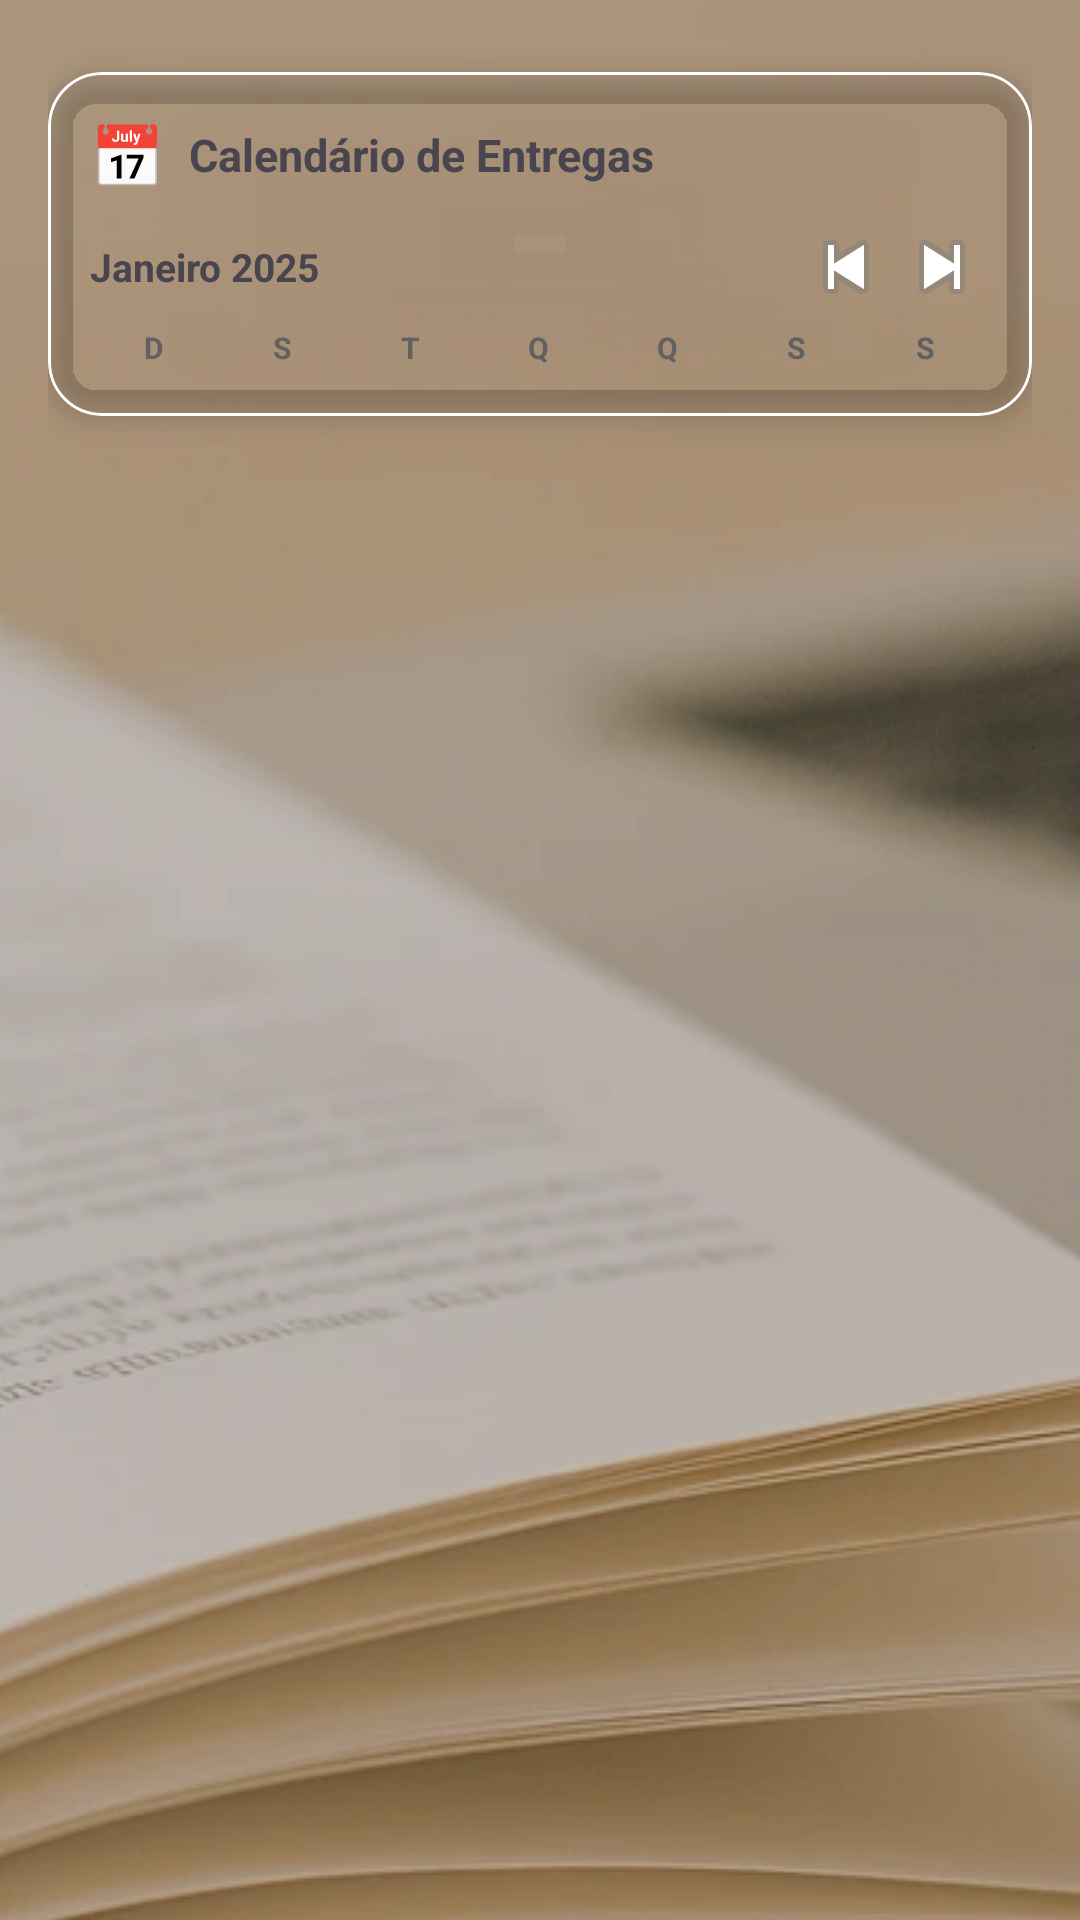

Screen size 1080 x 1920. Icon name, then its box in pixels as (x1, y1, x2, y2):
Mês anterior: (828, 245, 864, 289)
Próximo mês: (924, 245, 960, 289)
